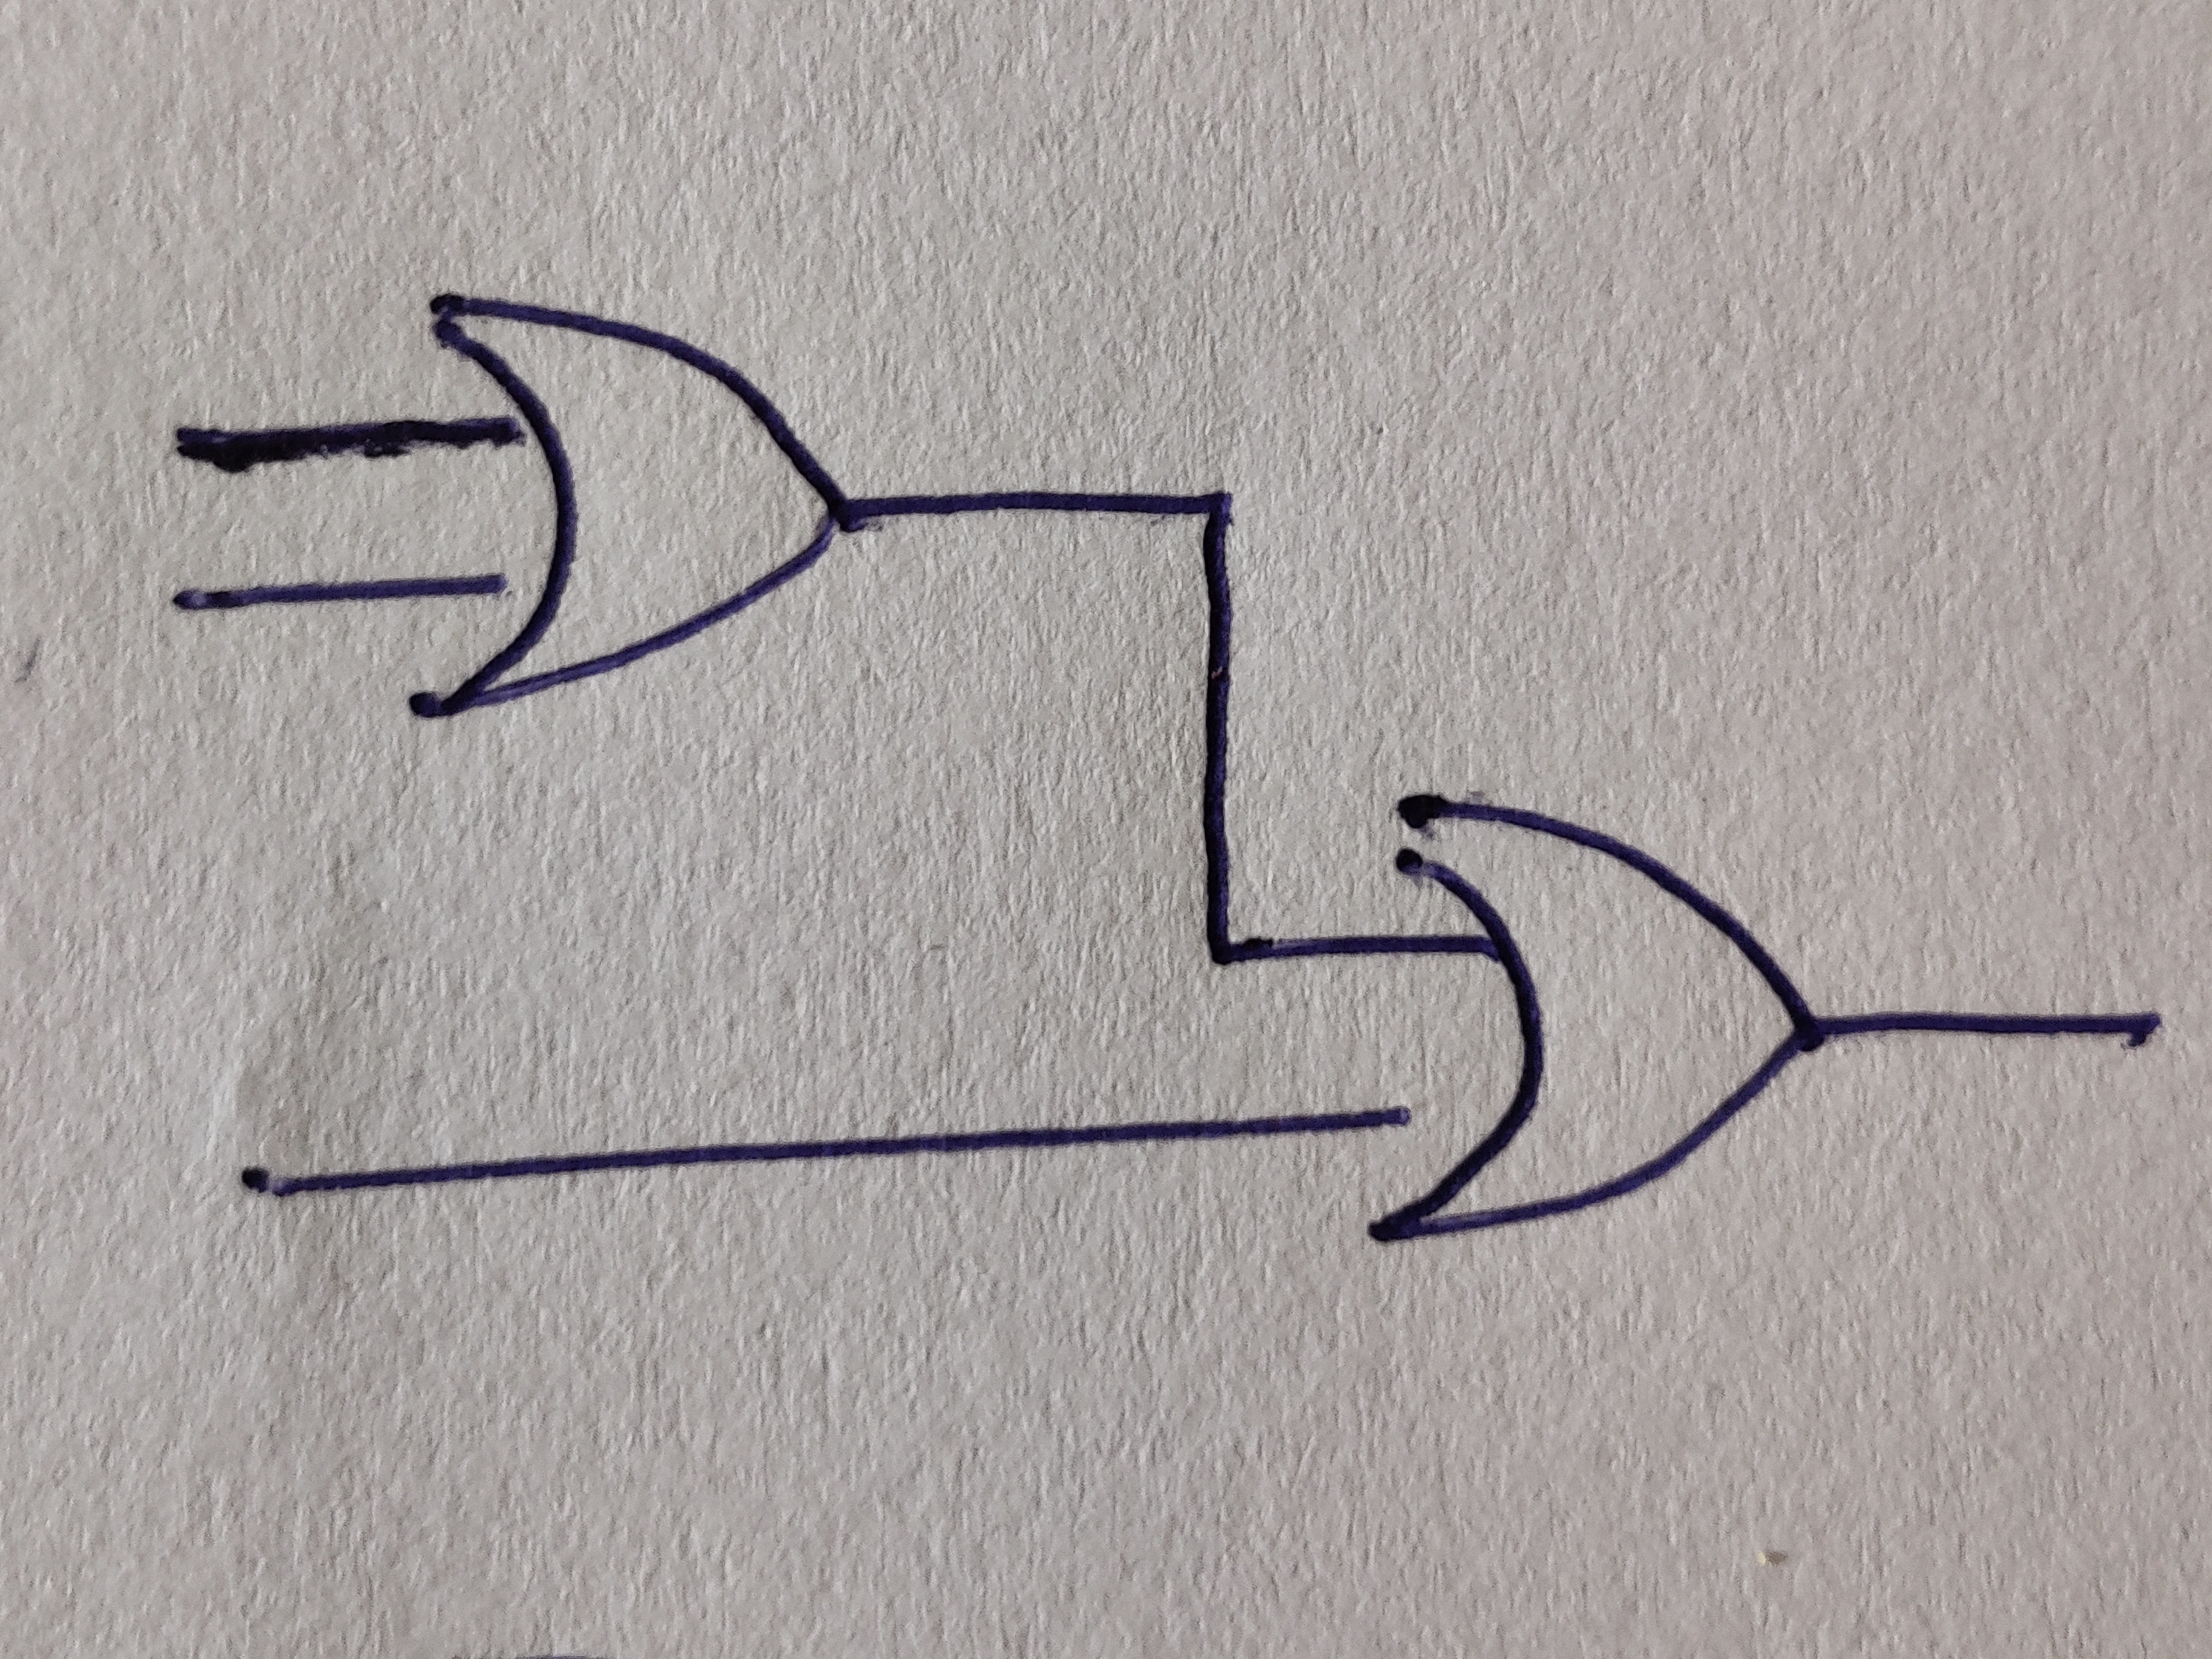or: (1367, 795, 1822, 1244), (408, 295, 846, 720)
